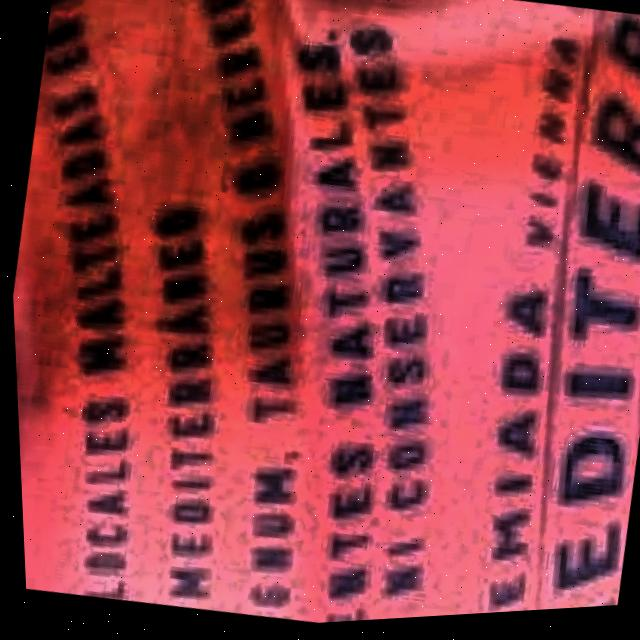metal: (10, 0, 640, 626)
